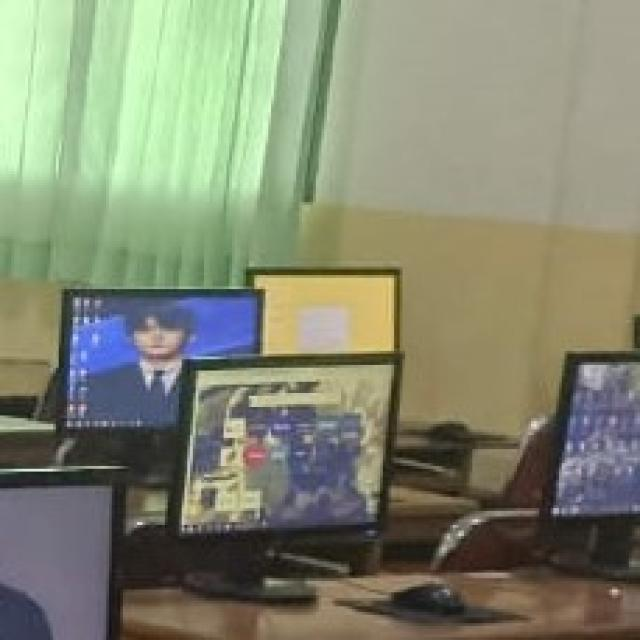onscreen: (172, 356, 401, 534), (61, 290, 261, 429), (551, 360, 640, 517), (249, 269, 400, 355)
